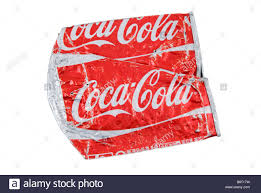Coca-Cola: (75, 80, 201, 110), (69, 29, 196, 48)
